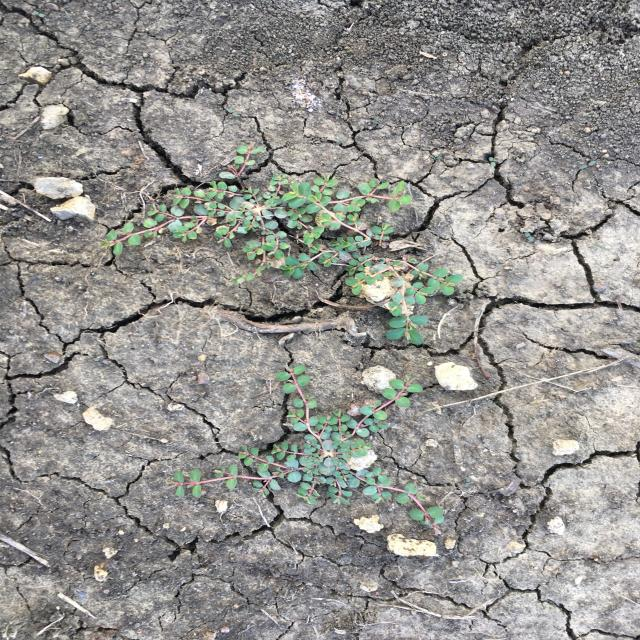SpottedSpurge: (97, 140, 466, 347), (161, 365, 448, 533)
